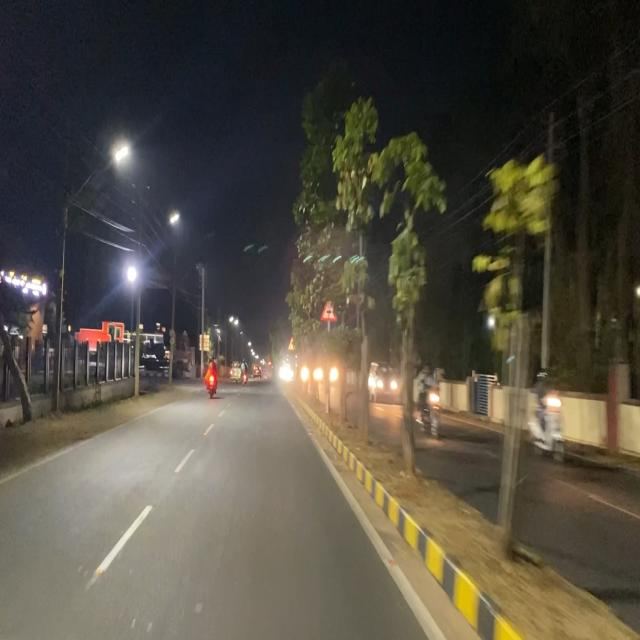bien_cam: (321, 296, 337, 324)
